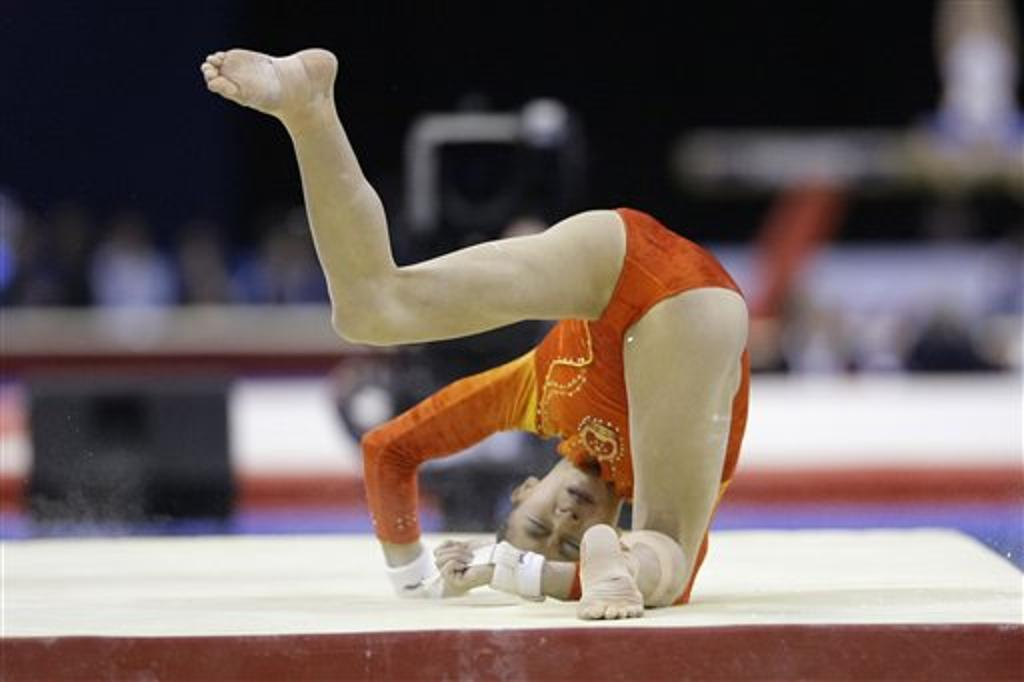face: (515, 467, 607, 591)
